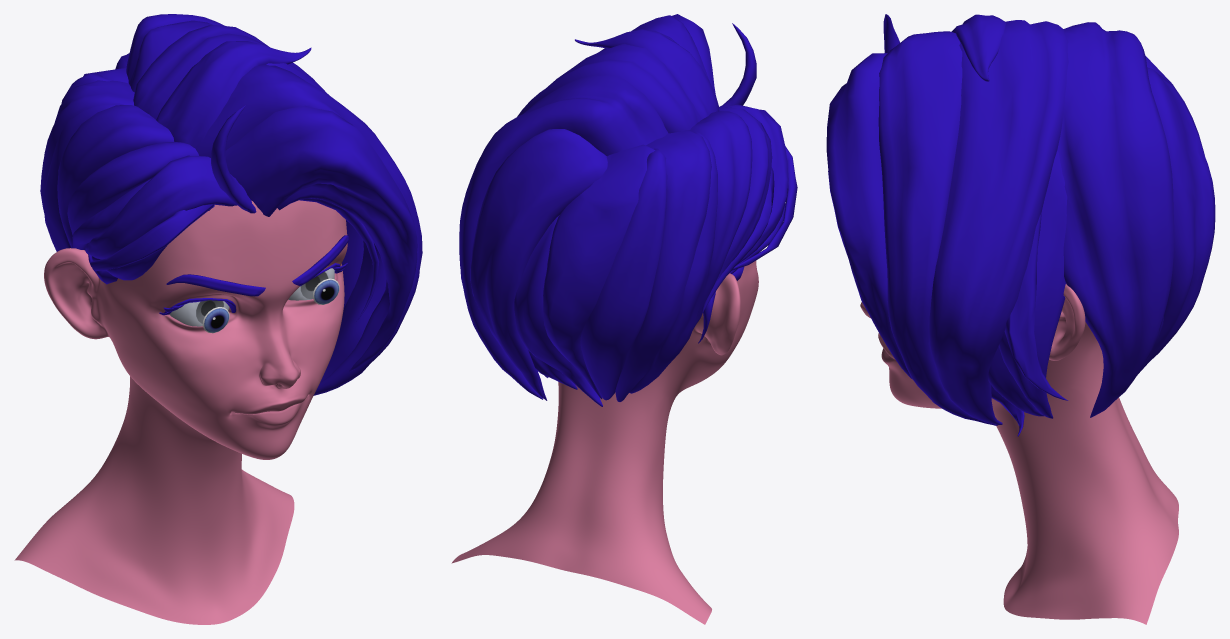
Rendered from bonnie.glb.
3 views of the same model, side by side, from view 1: azimuth 30°, elevation 25°; view 2: azimuth 150°, elevation 25°; view 3: azimuth 270°, elevation 25° (orthographic). The views are drawn at different scales.
Visible parts, largest first — view 1: bonnie_head, hair, eyes; view 2: hair, bonnie_head; view 3: hair, bonnie_head.
Part boxes in pixels (x1,y1,x2,y2): bonnie_head: [14, 200, 347, 624]; hair: [40, 14, 422, 395]; eyes: [169, 268, 334, 326]; hair: [459, 14, 797, 406]; bonnie_head: [451, 260, 758, 624]; hair: [826, 14, 1215, 436]; bonnie_head: [860, 284, 1178, 624].
Size of what is drawn, in the model's own units: 0.0128 by 0.0231 by 0.0139.
Materials: 6 (2 with a texture image).
